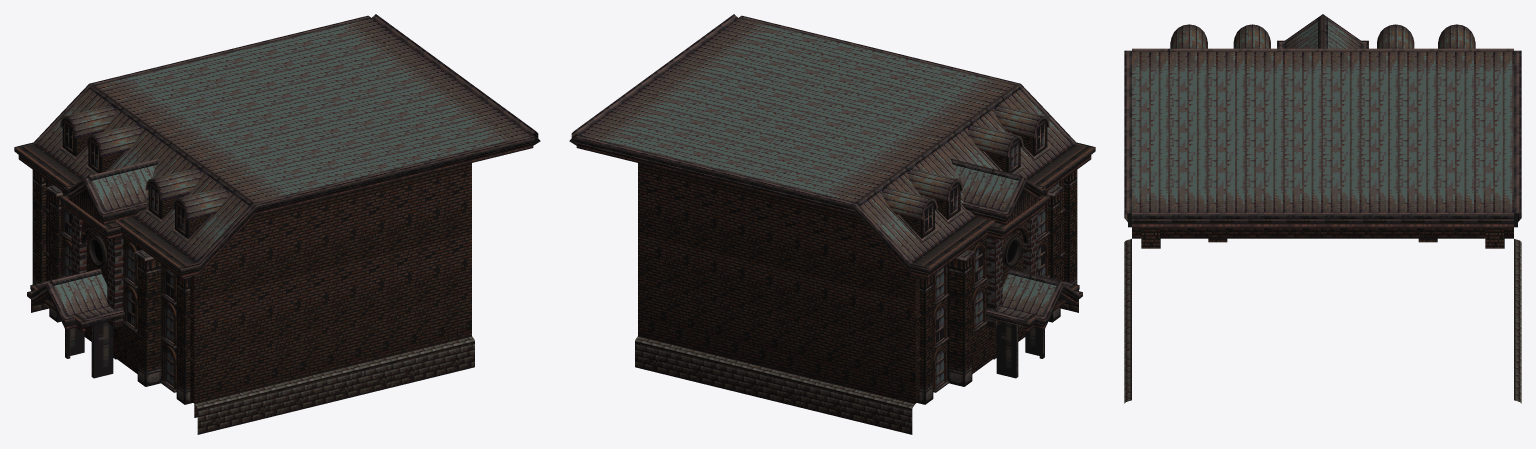
The model's file is EnvBdgMD_Factory_C_Outdoor.FBX.
3 renders of one model, left to right at view 1: azimuth 30°, elevation 25°; view 2: azimuth 150°, elevation 25°; view 3: azimuth 270°, elevation 25°, orthographic. The views are drawn at different scales.
Visible parts, largest first — view 1: EnvBdgMD_Factory_C_Outdoor; view 2: EnvBdgMD_Factory_C_Outdoor; view 3: EnvBdgMD_Factory_C_Outdoor.
Part boxes in pixels (x1=…): EnvBdgMD_Factory_C_Outdoor: x1=14, y1=14, x2=540, y2=434; EnvBdgMD_Factory_C_Outdoor: x1=569, y1=14, x2=1095, y2=434; EnvBdgMD_Factory_C_Outdoor: x1=1124, y1=14, x2=1521, y2=403.
Bounding box in the file's own units: 1493 × 750 × 1040.
